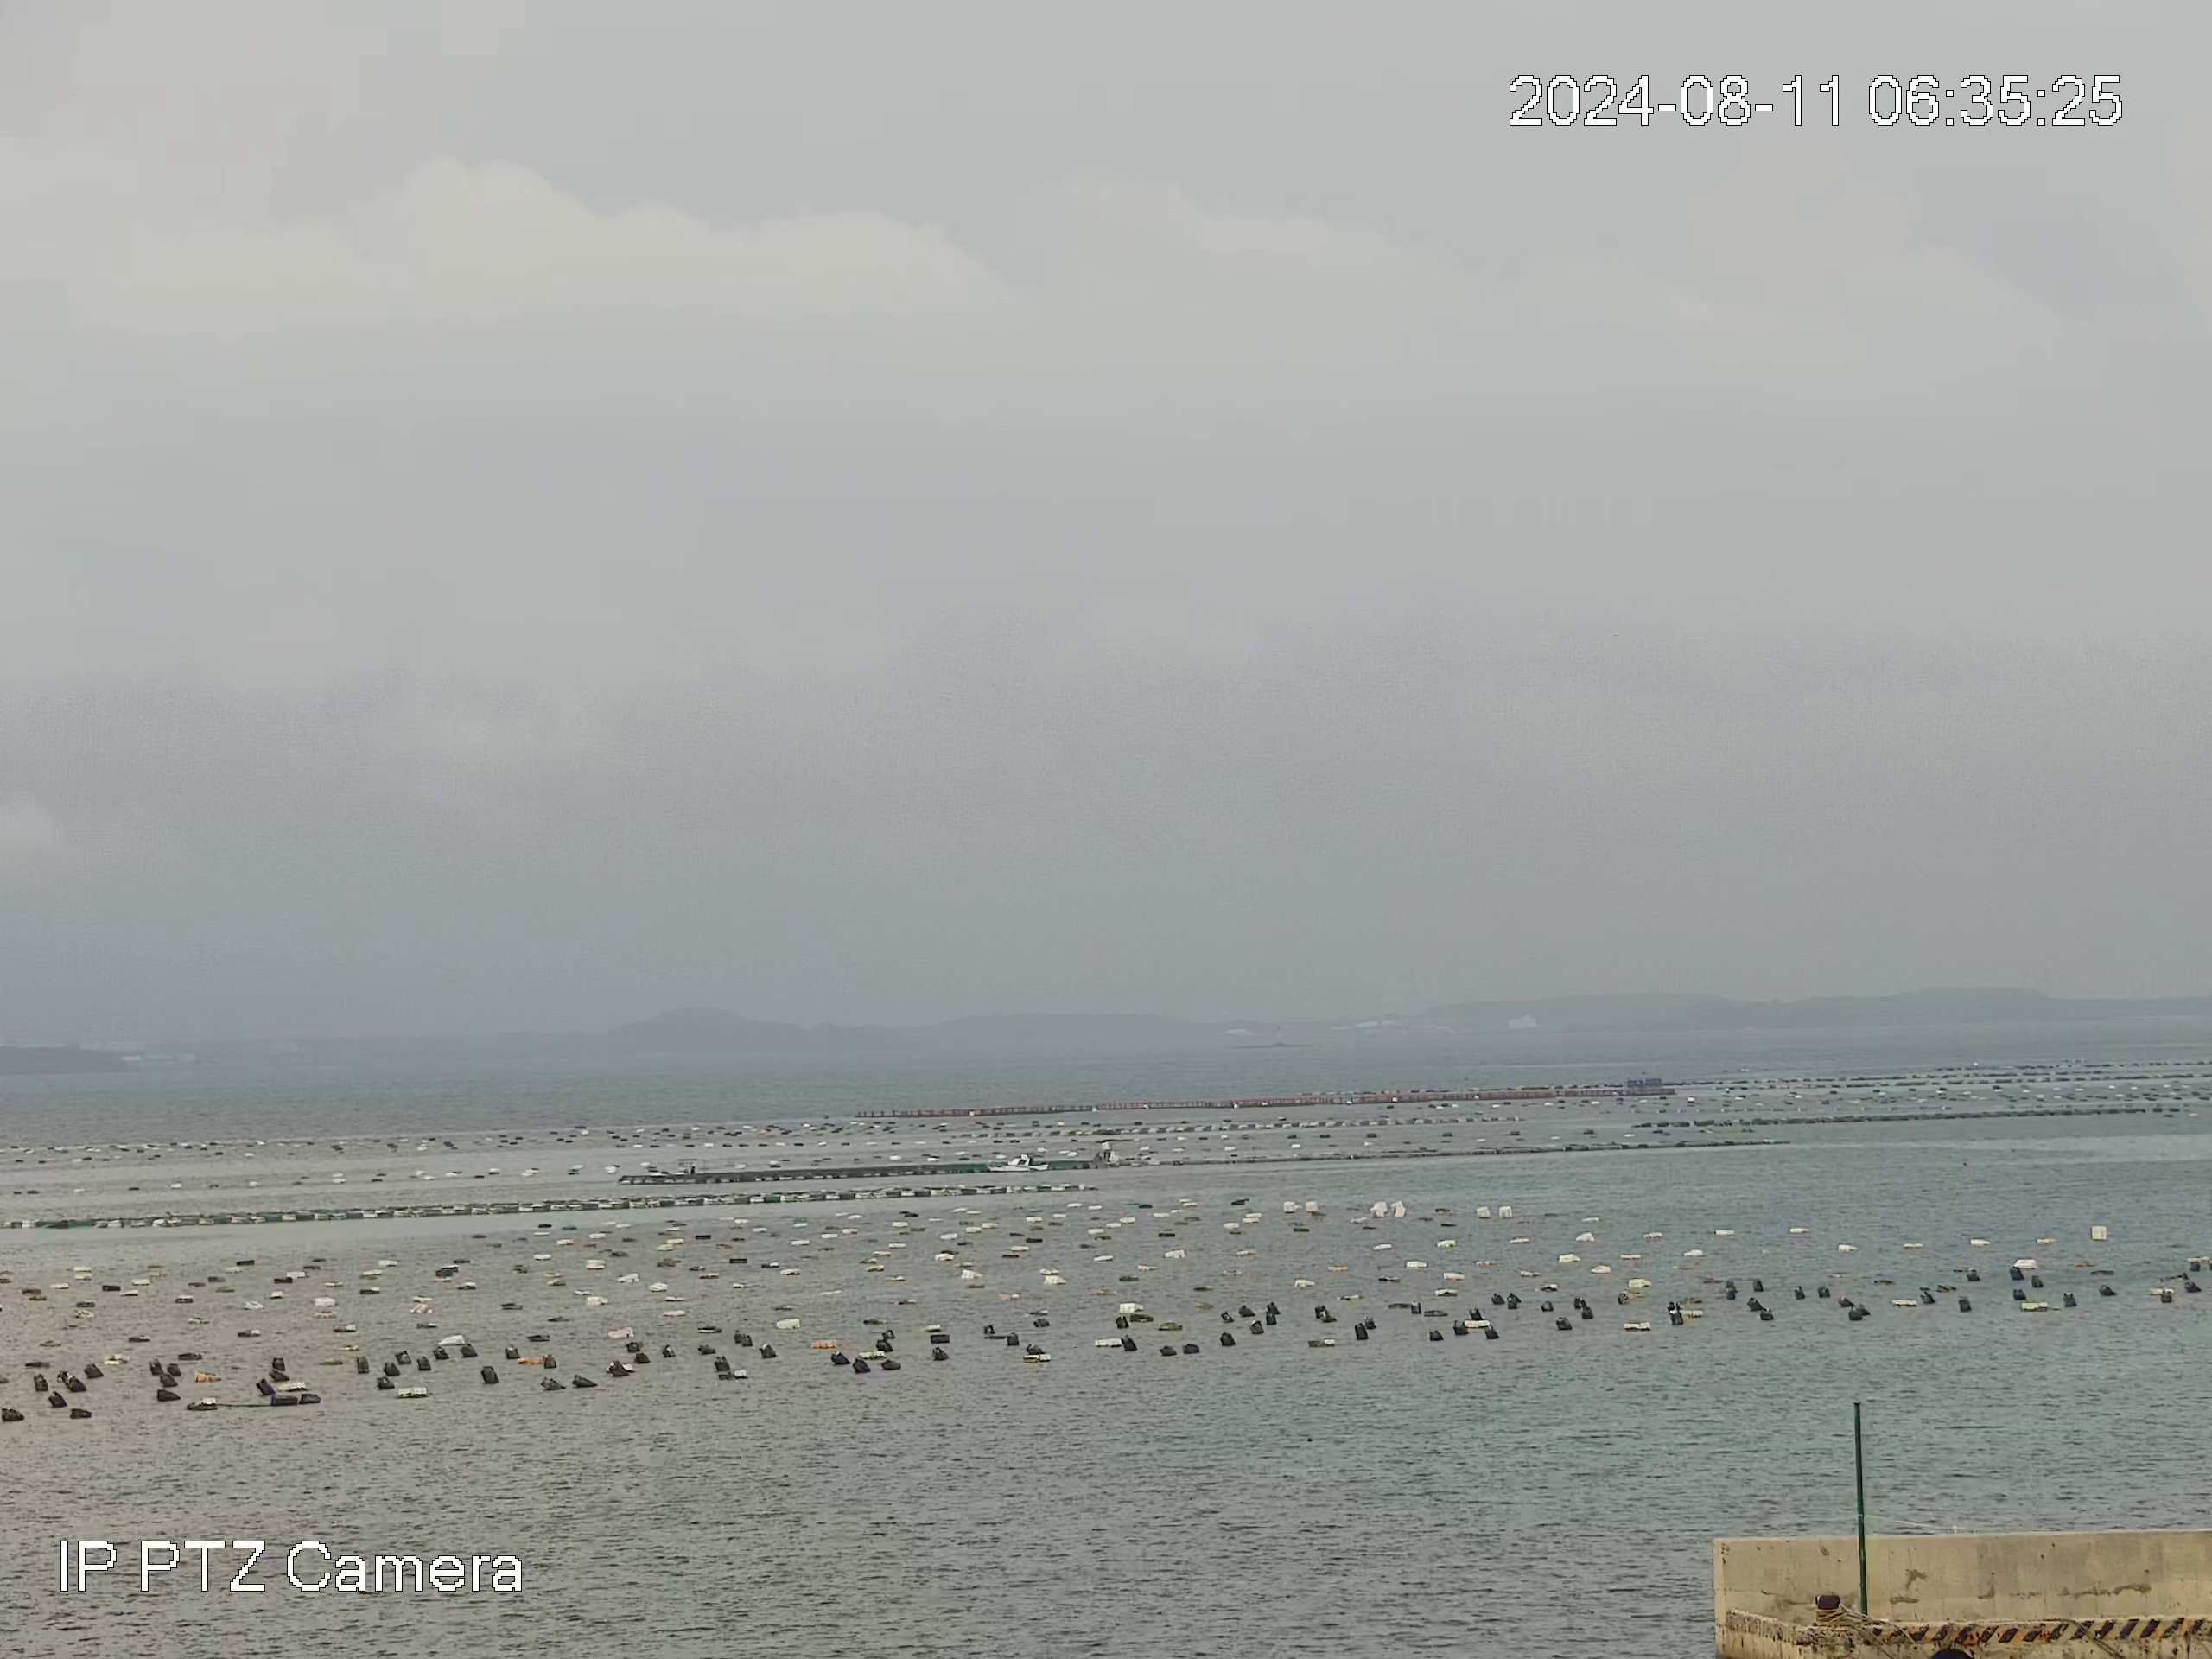boat: (984, 1152, 1050, 1175)
